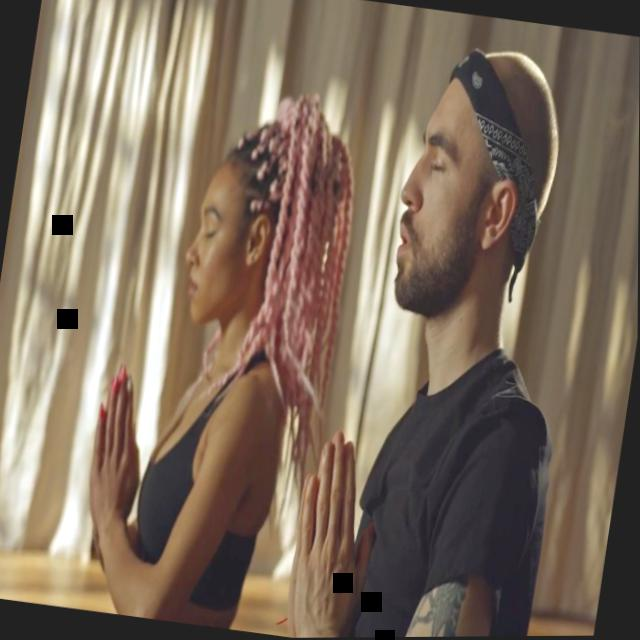NO-Mask: (384, 90, 509, 328), (177, 173, 261, 333)
